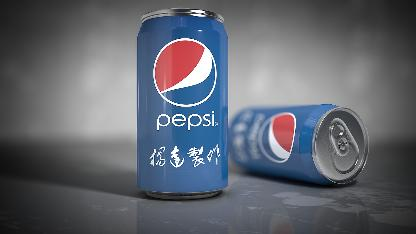Can: (137, 9, 228, 199), (229, 105, 369, 185)
